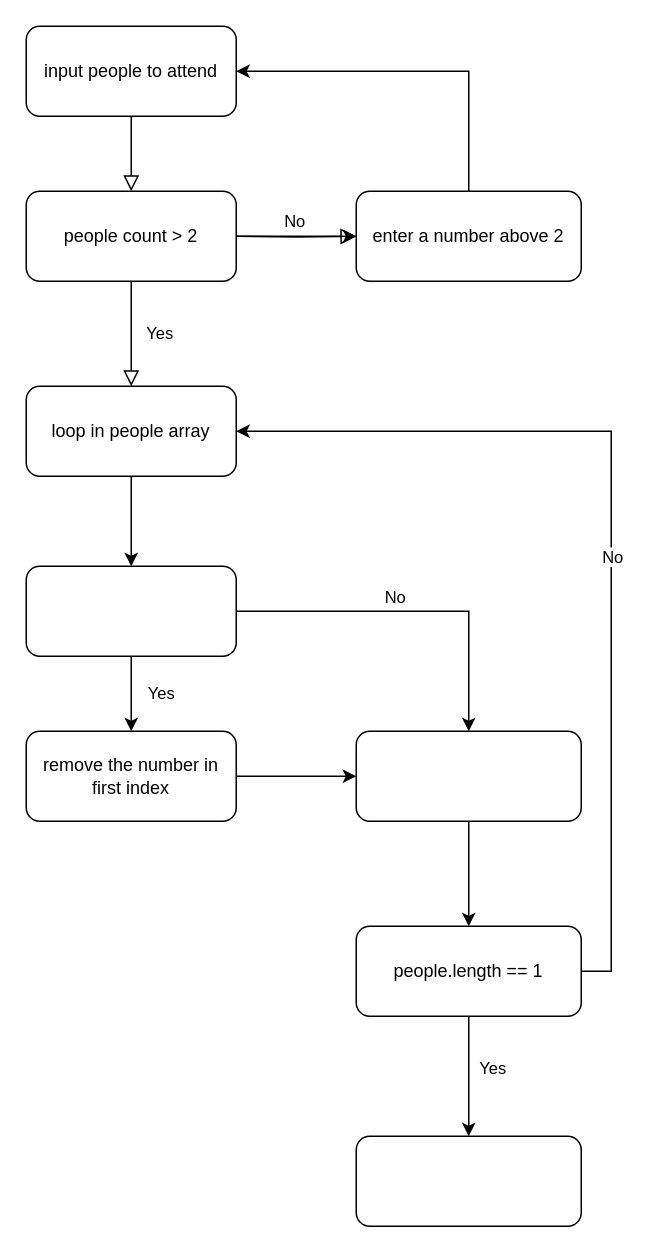
The diagram is 650 pixels wide and 1253 high, and some of its shapes have lost their labels. Here are the shapes that lost their labels. From the top down, the box of each, then its label:
(25, 565, 236, 656): is loop currently at the end of the array ?
(355, 730, 581, 821): remove i+1 from array to simulate person killing the next person
(355, 1135, 581, 1226): Print the last person
